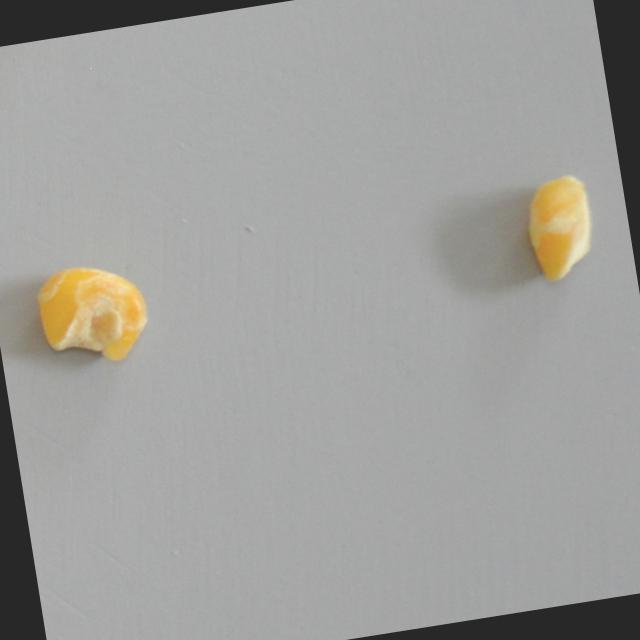pelicula: (30, 256, 157, 374), (519, 169, 602, 283)
